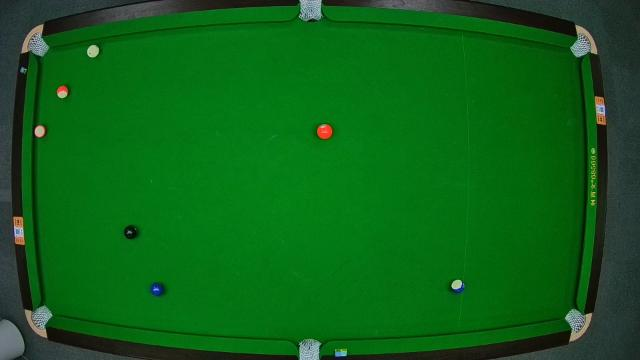bag1: (26, 34, 46, 56)
bag2: (300, 0, 322, 22)
bag3: (572, 35, 594, 57)
bag4: (31, 306, 51, 326)
bag5: (300, 342, 324, 360)
bag6: (565, 310, 587, 334)
ball0: (88, 45, 100, 59)
ball10: (450, 278, 466, 294)
ball12: (34, 124, 46, 140)
ball13: (58, 86, 68, 98)
ball2: (150, 282, 166, 298)
ball5: (317, 124, 333, 139)
ball8: (124, 225, 140, 241)
